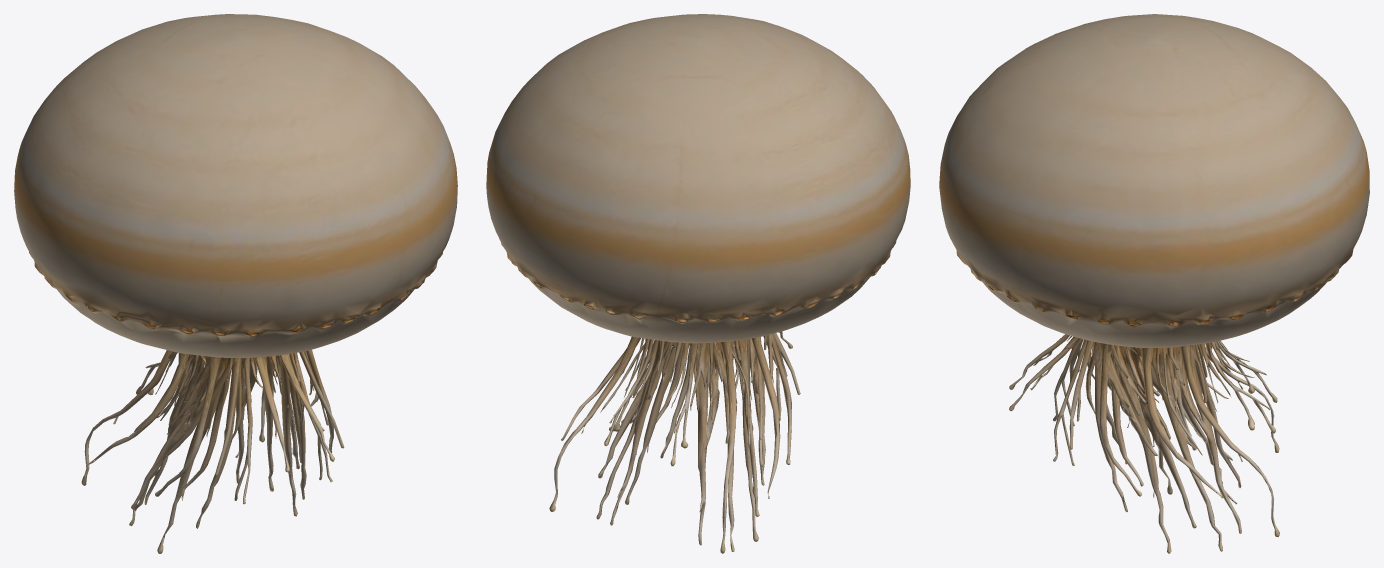
The model's file is alien-floater.glb.
3 views of the same model, side by side, from view 1: azimuth 30°, elevation 25°; view 2: azimuth 150°, elevation 25°; view 3: azimuth 270°, elevation 25° (orthographic). The views are drawn at different scales.
Parts seen in each view (by area): view 1: tripo_node_335c17af-865f-4798-bd90-f091805e7b24; view 2: tripo_node_335c17af-865f-4798-bd90-f091805e7b24; view 3: tripo_node_335c17af-865f-4798-bd90-f091805e7b24.
Part boxes in pixels (x1=…): tripo_node_335c17af-865f-4798-bd90-f091805e7b24: x1=14, y1=14, x2=457, y2=553; tripo_node_335c17af-865f-4798-bd90-f091805e7b24: x1=486, y1=14, x2=910, y2=553; tripo_node_335c17af-865f-4798-bd90-f091805e7b24: x1=939, y1=14, x2=1369, y2=553.
Size of the model in its own units: 0.8008 by 1 by 0.801.
1 material, 1 textured.
